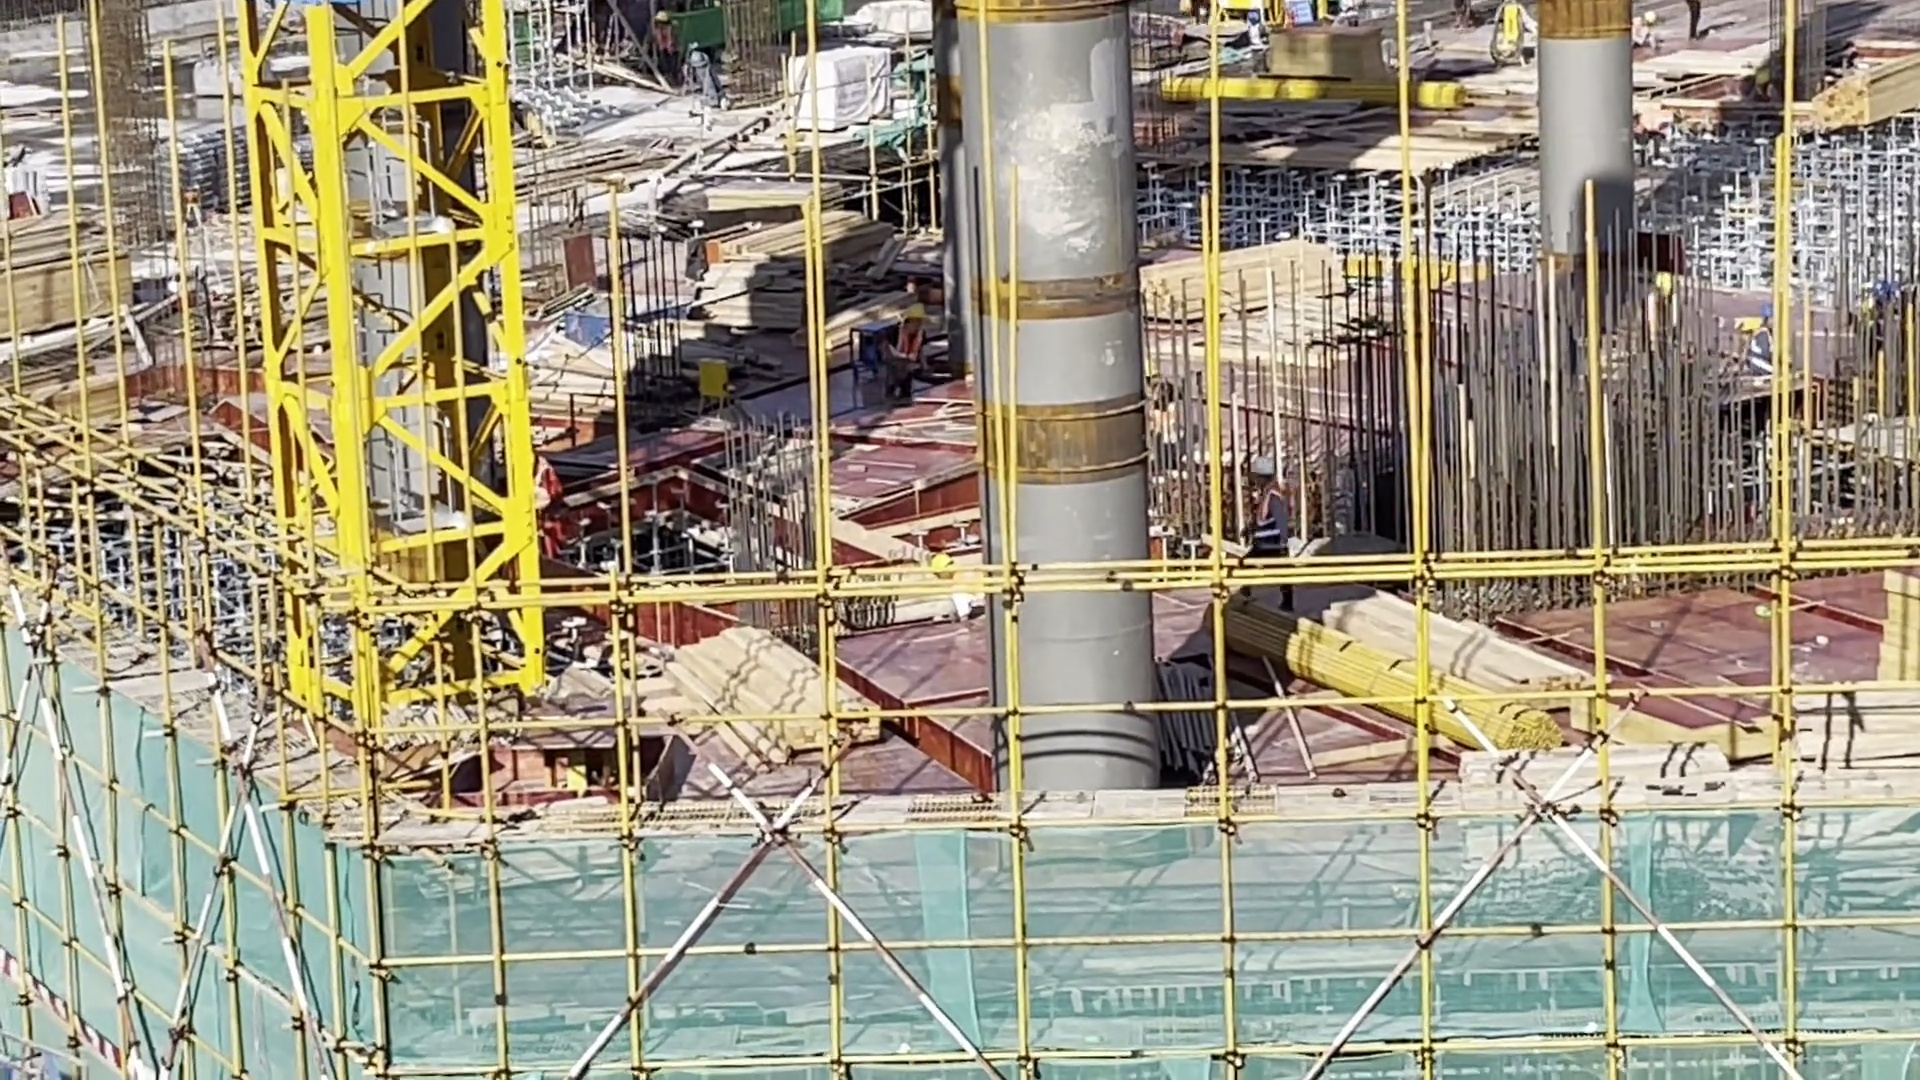board: (1, 227, 134, 327), (1280, 12, 1385, 84), (695, 172, 864, 206), (1878, 576, 1920, 657)
cutter: (504, 702, 679, 819)
ebox: (693, 344, 743, 391), (573, 759, 598, 796)
helmet: (1866, 278, 1896, 312), (1251, 456, 1284, 486), (1658, 277, 1689, 297), (1761, 308, 1787, 331), (911, 301, 933, 322), (926, 556, 946, 577), (1244, 14, 1265, 26), (1147, 362, 1165, 374), (657, 10, 668, 27), (1648, 10, 1658, 25)
hopper: (561, 284, 691, 357)
person: (733, 206, 926, 391), (1231, 441, 1281, 576), (528, 438, 575, 557), (916, 533, 987, 610), (1150, 360, 1188, 455), (1485, 1, 1537, 63), (1639, 263, 1672, 356), (1734, 293, 1767, 368), (653, 10, 683, 77), (1243, 4, 1270, 65), (1628, 9, 1653, 46), (1687, 1, 1710, 39)
vest: (1256, 477, 1296, 582), (1866, 291, 1920, 357), (533, 476, 579, 537), (1156, 383, 1185, 438), (949, 562, 984, 602), (1646, 295, 1679, 337), (898, 331, 923, 377), (1503, 6, 1528, 47), (1749, 319, 1768, 366), (1243, 22, 1264, 53), (663, 30, 675, 59), (1633, 27, 1648, 39)
wood: (1284, 572, 1584, 714), (1141, 229, 1344, 326), (684, 646, 834, 736)
